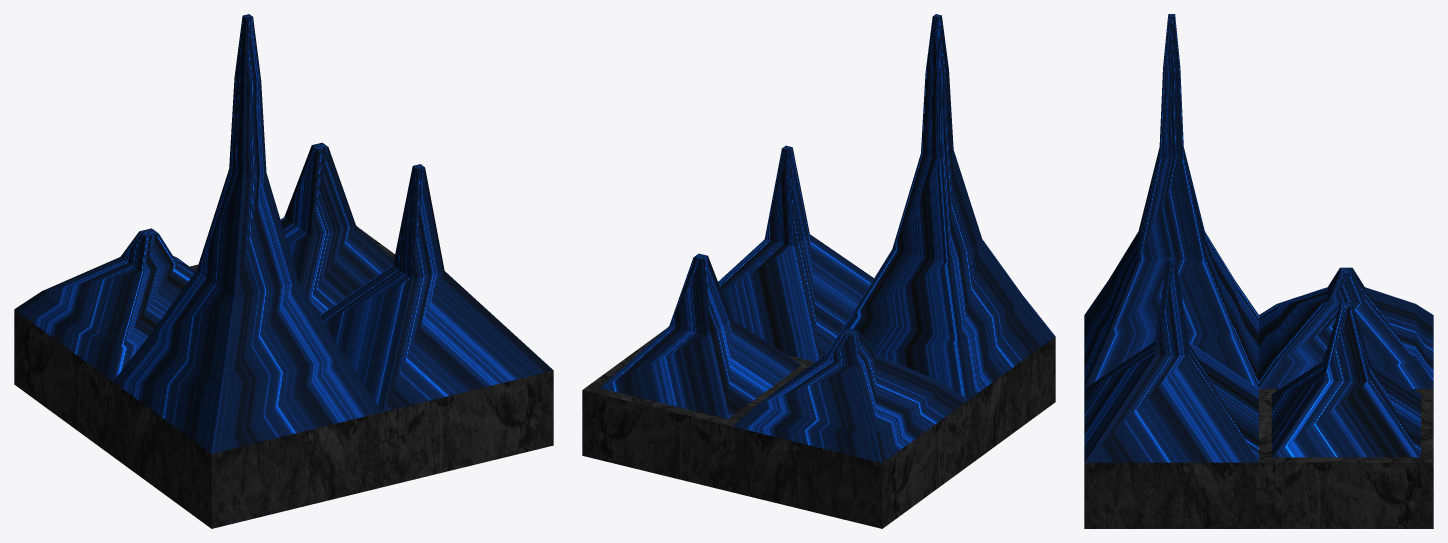
The model's file is EmptySpace4.fbx.
The picture shows the model from 3 angles, left to right: view 1: azimuth 30°, elevation 25°; view 2: azimuth 150°, elevation 25°; view 3: azimuth 270°, elevation 25°; orthographic projection. The views are drawn at different scales.
Visible parts, largest first — view 1: blankspace7; view 2: blankspace7; view 3: blankspace7.
Part boxes in pixels (x1,y1,x2,y2): blankspace7: [14, 14, 553, 528]; blankspace7: [582, 14, 1055, 528]; blankspace7: [1084, 14, 1433, 528].
Size of the model in its own units: 100 by 127 by 100.
2 materials, 2 textured.
